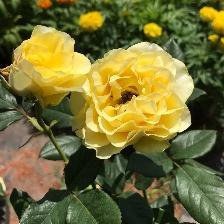rose: (86, 42, 194, 155), (8, 24, 91, 102)
